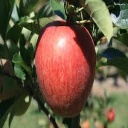apple: (34, 21, 97, 118)
